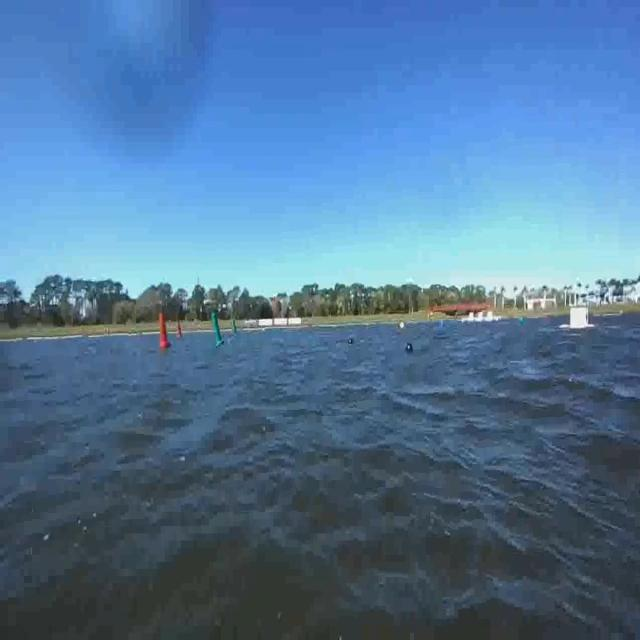black-buoy: (406, 343, 413, 354), (348, 338, 354, 345)
green-column-buoy: (210, 313, 226, 349), (232, 321, 238, 334)
red-column-buoy: (156, 312, 169, 350), (177, 320, 184, 338)
